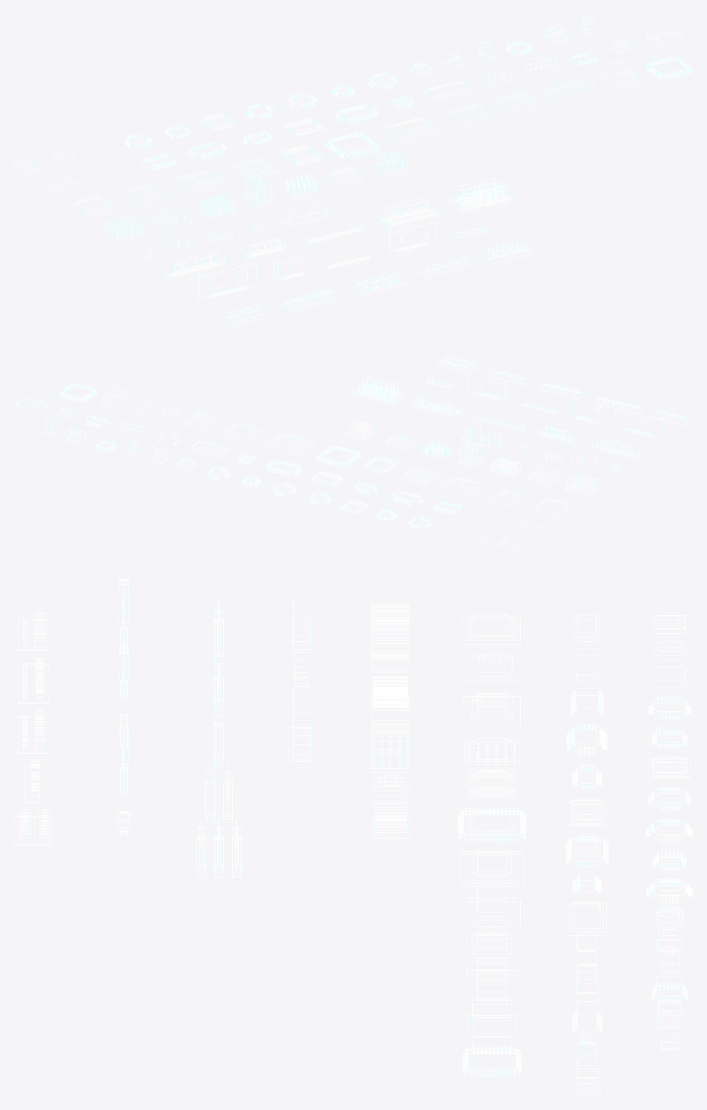
File: qfp-variants.glb
3 views of the same model, one above another, from view 1: azimuth 30°, elevation 25°; view 2: azimuth 150°, elevation 25°; view 3: azimuth 270°, elevation 25° (orthographic). The views are drawn at different scales.
Visible parts, largest first — view 1: outline_d5-dimm-bank, outline_d4-dimm-pair, outline_c6-lga-gullwing, outline_d1-dimm-populated, outline_h1-classic-fins, outline_h4-tall-fins, outline_h5-pin-fin, outline_h3-dense-thin, outline_h7-two-tier, outline_c12-tall-lga-gw, outline_v3-vrm-6caps, outline_v2-vrm-8dense (+8 smaller); view 2: outline_d5-dimm-bank, outline_d4-dimm-pair, outline_d1-dimm-populated, outline_c6-lga-gullwing, outline_h1-classic-fins, outline_h3-dense-thin, outline_h4-tall-fins, outline_h5-pin-fin, outline_c12-tall-lga-gw, outline_v5-vrm-double, outline_h7-two-tier, outline_c7-heatspreader-stack (+9 smaller); view 3: outline_h1-classic-fins, outline_c6-lga-gullwing, outline_d5-dimm-bank, outline_h3-dense-thin, outline_c12-tall-lga-gw, outline_h4-tall-fins, outline_h7-two-tier, outline_c5-wafer-stack, outline_c7-heatspreader-stack, outline_h2-wide-plates, outline_c4-pga, outline_v5-vrm-double (+1 smaller).
Part boxes in pixels (x1=…): outline_d5-dimm-bank: x1=448, y1=177, x2=515, y2=213; outline_d4-dimm-pair: x1=377, y1=196, x2=442, y2=229; outline_c6-lga-gullwing: x1=324, y1=132, x2=380, y2=158; outline_d1-dimm-populated: x1=164, y1=250, x2=226, y2=279; outline_h1-classic-fins: x1=104, y1=214, x2=145, y2=242; outline_h4-tall-fins: x1=242, y1=176, x2=275, y2=208; outline_h5-pin-fin: x1=281, y1=173, x2=318, y2=199; outline_h3-dense-thin: x1=197, y1=195, x2=235, y2=219; outline_h7-two-tier: x1=370, y1=149, x2=412, y2=177; outline_c12-tall-lga-gw: x1=645, y1=49, x2=692, y2=79; outline_v3-vrm-6caps: x1=350, y1=272, x2=408, y2=295; outline_v2-vrm-8dense: x1=279, y1=289, x2=342, y2=312; outline_d5-dimm-bank: x1=351, y1=375, x2=406, y2=405; outline_d4-dimm-pair: x1=411, y1=394, x2=464, y2=418; outline_d1-dimm-populated: x1=589, y1=435, x2=640, y2=459; outline_c6-lga-gullwing: x1=316, y1=445, x2=361, y2=467; outline_h1-classic-fins: x1=564, y1=473, x2=598, y2=496; outline_h3-dense-thin: x1=489, y1=457, x2=520, y2=477; outline_h4-tall-fins: x1=456, y1=442, x2=484, y2=468; outline_h5-pin-fin: x1=421, y1=439, x2=452, y2=460; outline_c12-tall-lga-gw: x1=58, y1=377, x2=97, y2=402; outline_v5-vrm-double: x1=436, y1=355, x2=478, y2=373; outline_h7-two-tier: x1=344, y1=420, x2=377, y2=442; outline_c7-heatspreader-stack: x1=262, y1=432, x2=317, y2=455; outline_h1-classic-fins: x1=371, y1=603, x2=409, y2=642; outline_c6-lga-gullwing: x1=458, y1=808, x2=525, y2=841; outline_d5-dimm-bank: x1=196, y1=819, x2=241, y2=877; outline_h3-dense-thin: x1=372, y1=676, x2=408, y2=710; outline_c12-tall-lga-gw: x1=462, y1=1036, x2=521, y2=1076; outline_h4-tall-fins: x1=371, y1=696, x2=409, y2=740; outline_h7-two-tier: x1=371, y1=802, x2=409, y2=842; outline_c5-wafer-stack: x1=468, y1=769, x2=515, y2=798; outline_c7-heatspreader-stack: x1=460, y1=851, x2=523, y2=888; outline_h2-wide-plates: x1=371, y1=638, x2=409, y2=677; outline_c4-pga: x1=464, y1=737, x2=519, y2=764; outline_v5-vrm-double: x1=14, y1=809, x2=52, y2=845.
Bounding box in the file's own units: 35.43 × 1.46 × 21.4.
